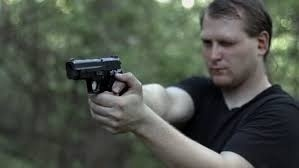pistol: (65, 57, 130, 105)
